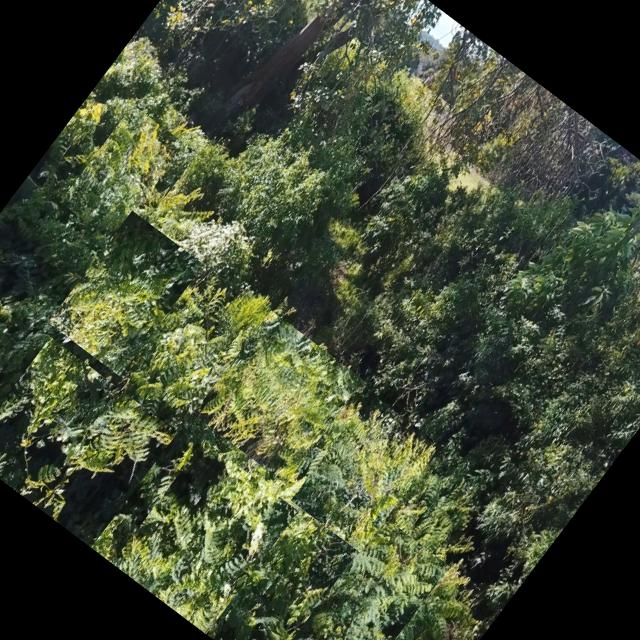Mysore-Thorn-Weed: (0, 337, 177, 548), (112, 441, 299, 635), (192, 311, 364, 484), (47, 210, 204, 378), (290, 393, 440, 552), (203, 454, 351, 614), (59, 105, 198, 251), (292, 517, 450, 640)
